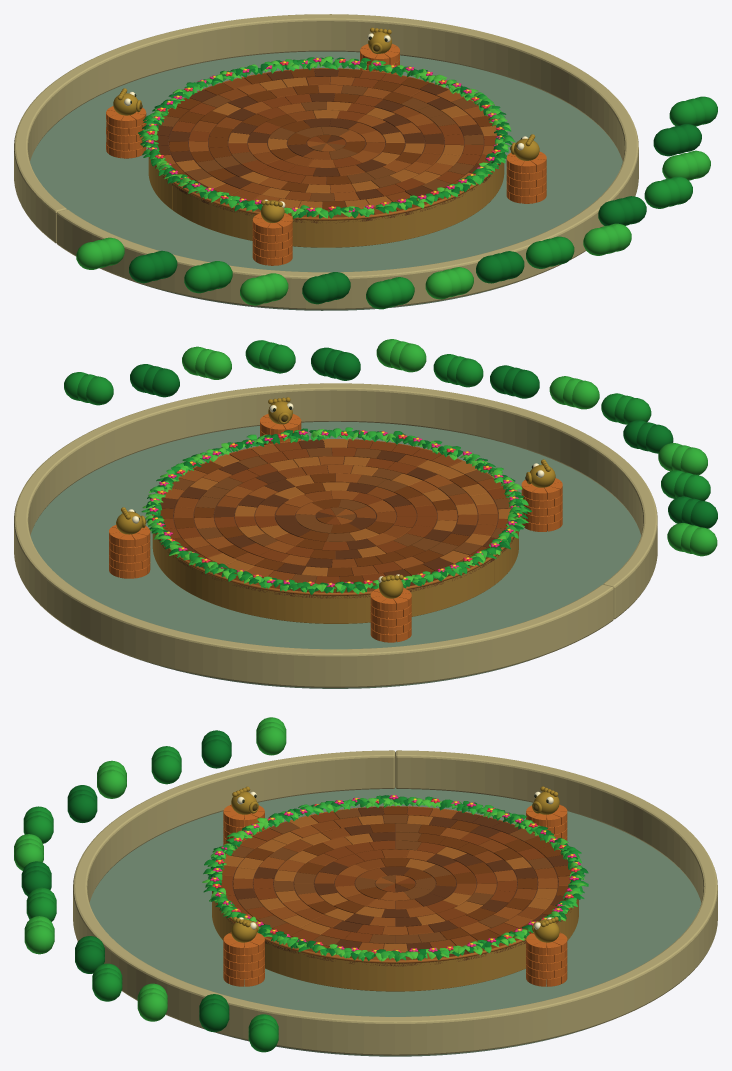
Rendered from environment-v3.glb.
The picture shows the model from 3 angles, top to bottom: view 1: azimuth 30°, elevation 25°; view 2: azimuth 150°, elevation 25°; view 3: azimuth 270°, elevation 25°; orthographic projection. The views are drawn at different scales.
Visible parts, largest first — view 1: Env_PoolStructure_Bed.001, Env_PoolStructure_Bank.001, Env_PlatformSide.001, Env_StoneFloor_Brick_0.001, Env_StoneFloor_Brick_3.001, Env_StoneFloor_Brick_4.001, Env_Pedestals.001, Env_BackGarden_1.001, Env_BackGarden_0.001, Env_BackGarden_2.001, Env_StoneFloor_Brick_2.001, Env_StoneFloor_Brick_5.001 (+11 smaller); view 2: Env_PoolStructure_Bank.001, Env_PoolStructure_Bed.001, Env_PlatformSide.001, Env_StoneFloor_Brick_3.001, Env_StoneFloor_Brick_5.001, Env_Pedestals.001, Env_BackGarden_2.001, Env_BackGarden_0.001, Env_BackGarden_1.001, Env_StoneFloor_Brick_0.001, Env_StoneFloor_Brick_2.001, Env_StoneFloor_Brick_4.001 (+10 smaller); view 3: Env_PoolStructure_Bank.001, Env_PoolStructure_Bed.001, Env_PlatformSide.001, Env_StoneFloor_Brick_3.001, Env_StoneFloor_Brick_0.001, Env_StoneFloor_Brick_4.001, Env_StoneFloor_Brick_5.001, Env_StoneFloor_Brick_2.001, Env_Pedestals.001, Env_StoneFloor_Brick_6.001, Env_StoneFloor_Brick_1.001, Env_BackGarden_2.001 (+10 smaller).
Boxes of the visible parts, x1,y1,x2,y2 form: Env_PoolStructure_Bed.001: (30,51,622,310); Env_PoolStructure_Bank.001: (14,14,638,309); Env_PlatformSide.001: (148,157,504,247); Env_StoneFloor_Brick_0.001: (166,68,496,210); Env_StoneFloor_Brick_3.001: (162,70,498,215); Env_StoneFloor_Brick_4.001: (152,68,482,199); Env_Pedestals.001: (106,44,546,265); Env_BackGarden_1.001: (184,96,717,309); Env_BackGarden_0.001: (129,124,701,304); Env_BackGarden_2.001: (76,150,710,305); Env_StoneFloor_Brick_2.001: (163,76,493,203); Env_StoneFloor_Brick_5.001: (176,77,500,216); Env_PoolStructure_Bank.001: (14,383,657,687); Env_PoolStructure_Bed.001: (30,421,641,688); Env_PlatformSide.001: (152,531,518,623); Env_StoneFloor_Brick_3.001: (163,439,509,584); Env_StoneFloor_Brick_5.001: (190,439,514,576); Env_Pedestals.001: (109,414,562,642); Env_BackGarden_2.001: (182,339,717,556); Env_BackGarden_0.001: (130,347,717,528); Env_BackGarden_1.001: (64,340,710,500); Env_StoneFloor_Brick_0.001: (154,461,490,592); Env_StoneFloor_Brick_2.001: (162,444,497,577); Env_StoneFloor_Brick_4.001: (160,439,501,591); Env_PoolStructure_Bank.001: (73,750,717,1055); Env_PoolStructure_Bed.001: (89,787,701,1056); Env_PlatformSide.001: (212,893,578,991); Env_StoneFloor_Brick_3.001: (216,806,545,953); Env_StoneFloor_Brick_0.001: (245,806,571,959); Env_StoneFloor_Brick_4.001: (233,806,568,957); Env_StoneFloor_Brick_5.001: (223,815,557,957); Env_StoneFloor_Brick_2.001: (259,808,557,960); Env_Pedestals.001: (223,804,567,986); Env_StoneFloor_Brick_6.001: (227,808,552,960); Env_StoneFloor_Brick_1.001: (222,817,574,949); Env_BackGarden_2.001: (14,717,286,1021).
Size of what is drawn, in the model's own units: 28.84 by 2.91 by 26.85.
